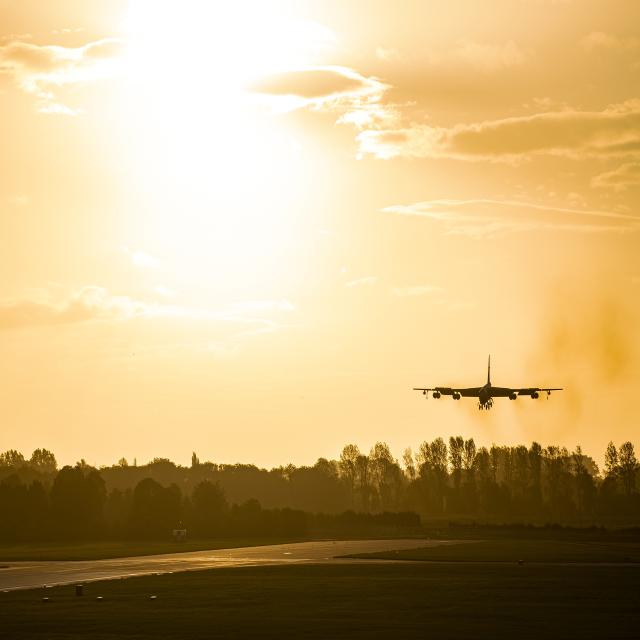MIL_Plane: (413, 354, 563, 410)
